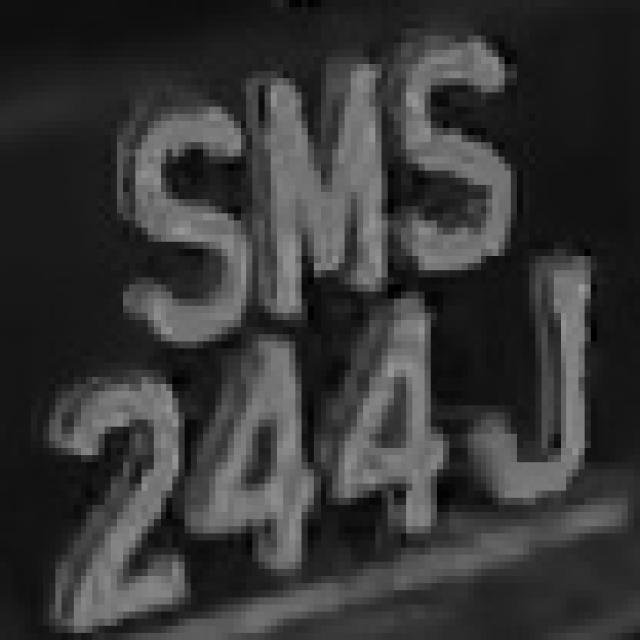2: (25, 370, 203, 640)
4: (320, 284, 468, 569), (203, 348, 332, 604)
J: (498, 249, 610, 526)
M: (240, 35, 388, 313)
S: (80, 107, 252, 356), (400, 35, 529, 298)
